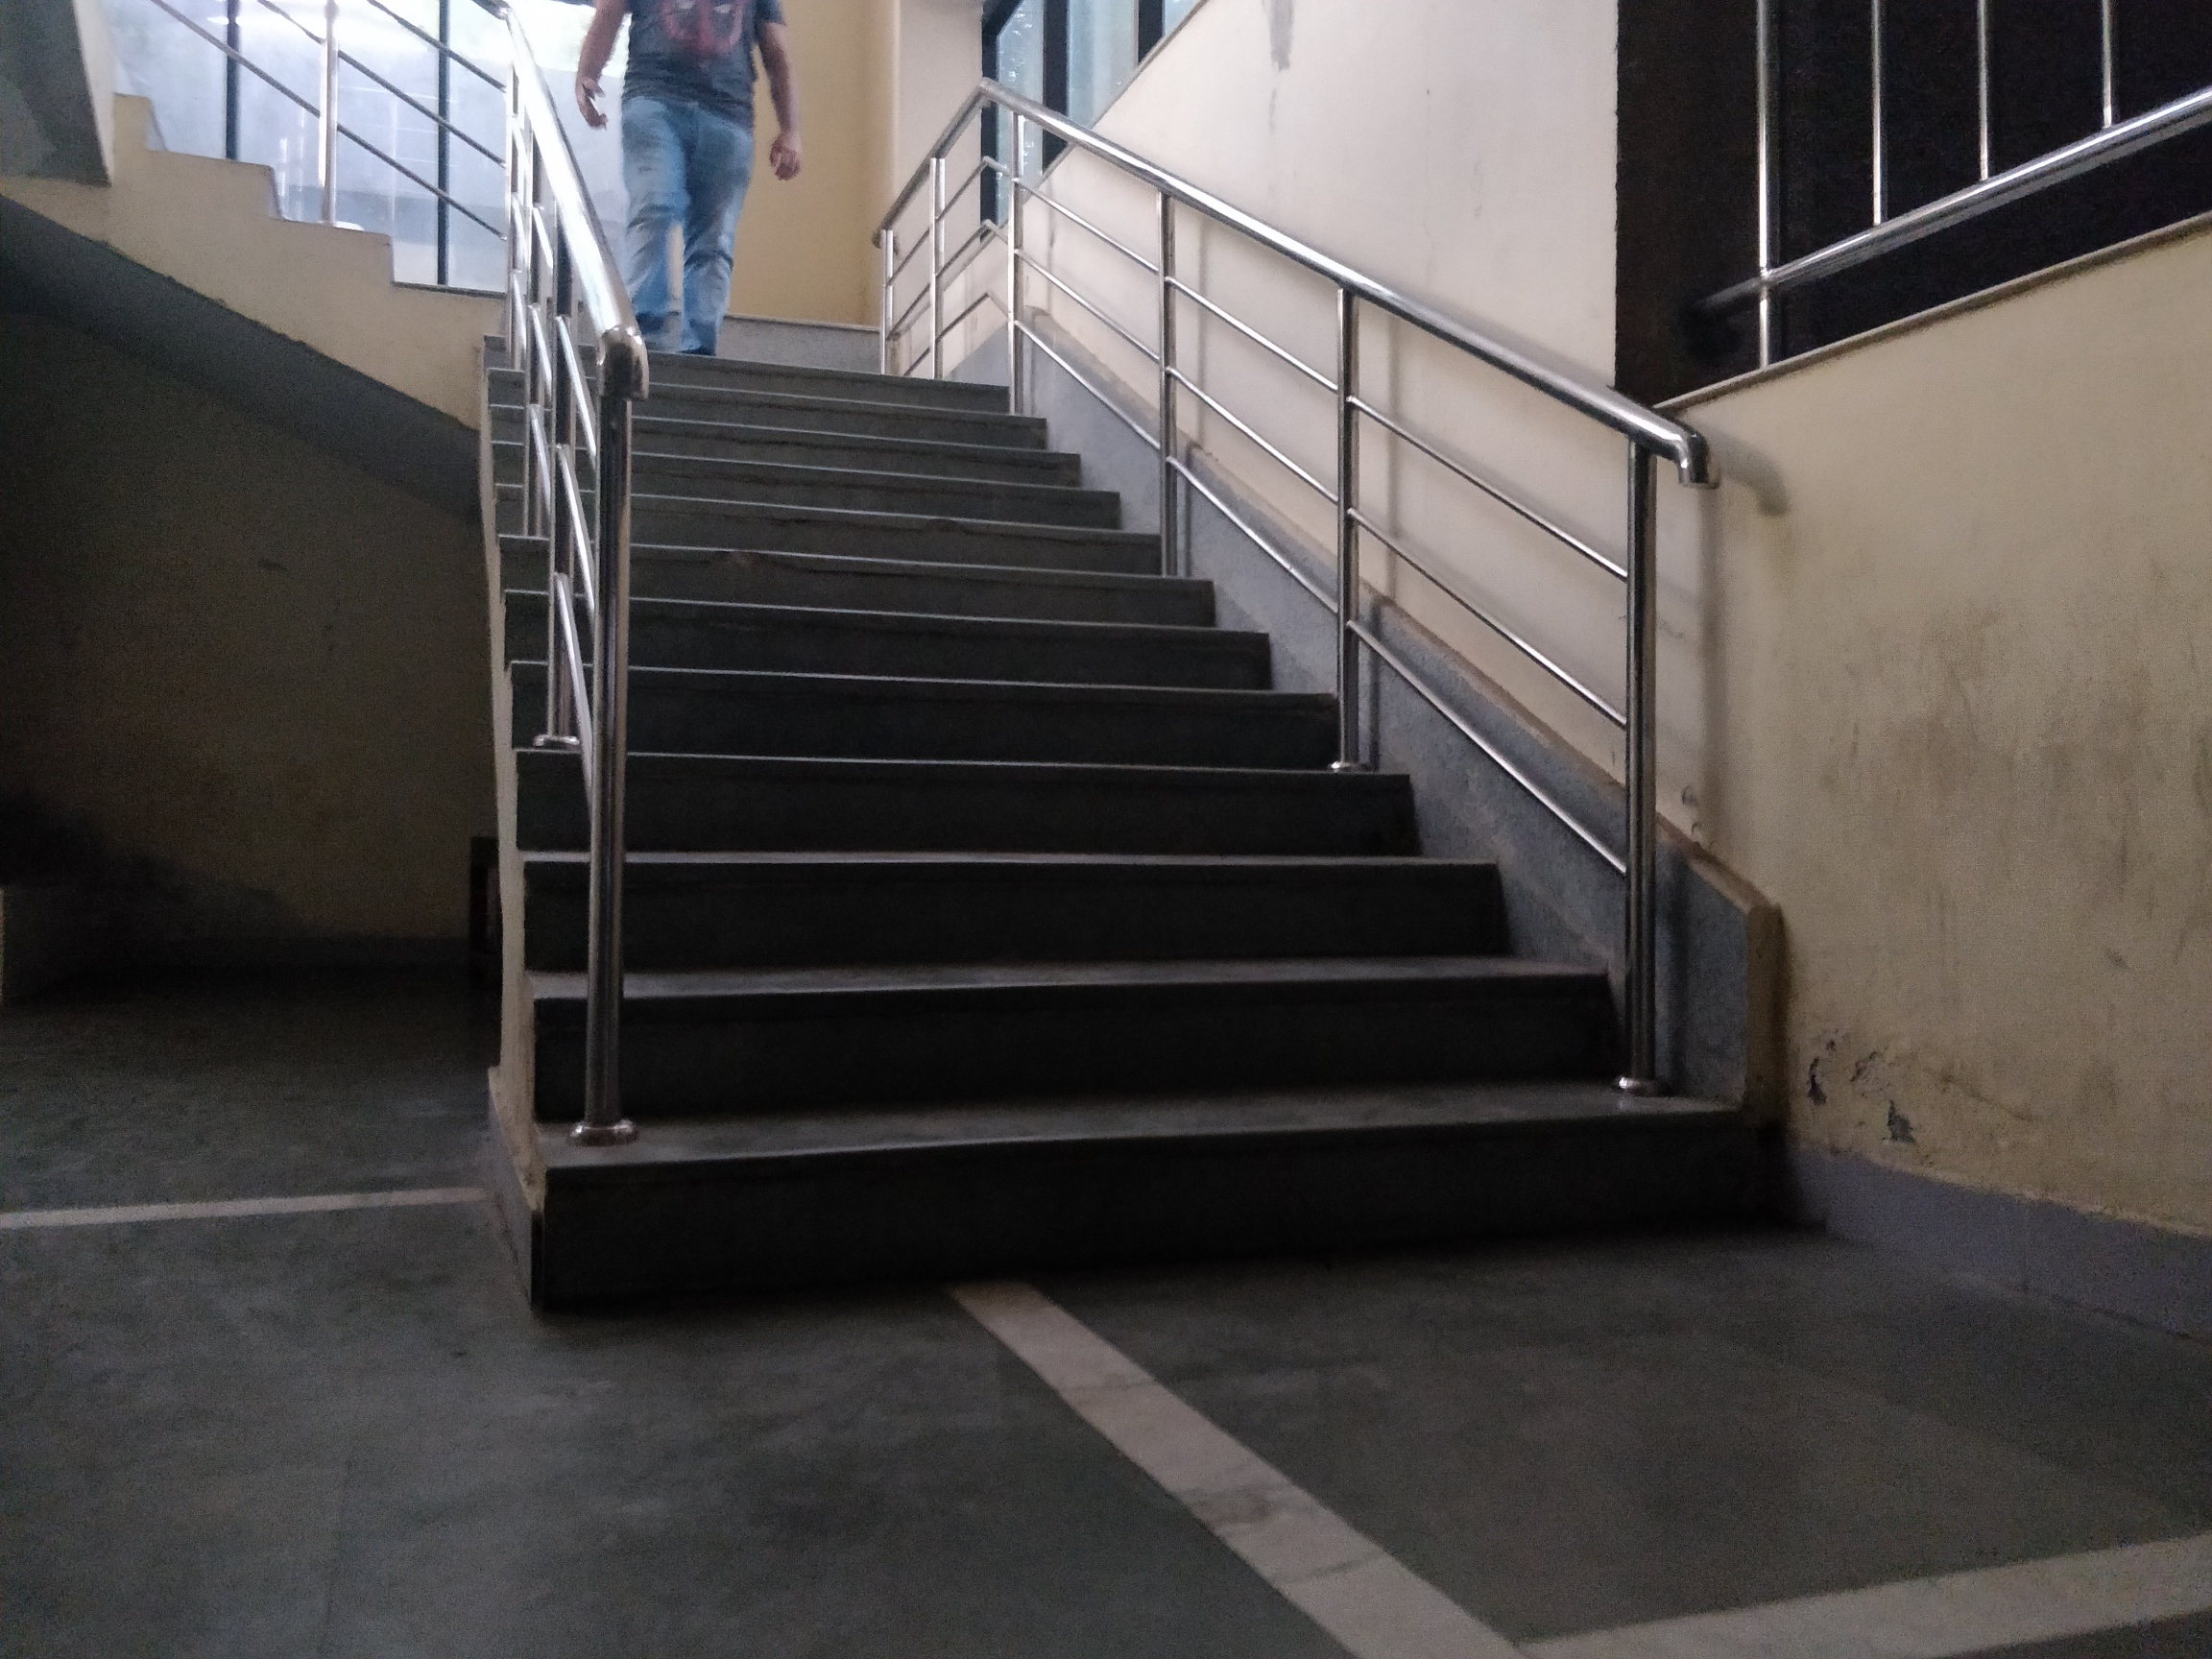stairs_up: (467, 343, 1684, 1248)
